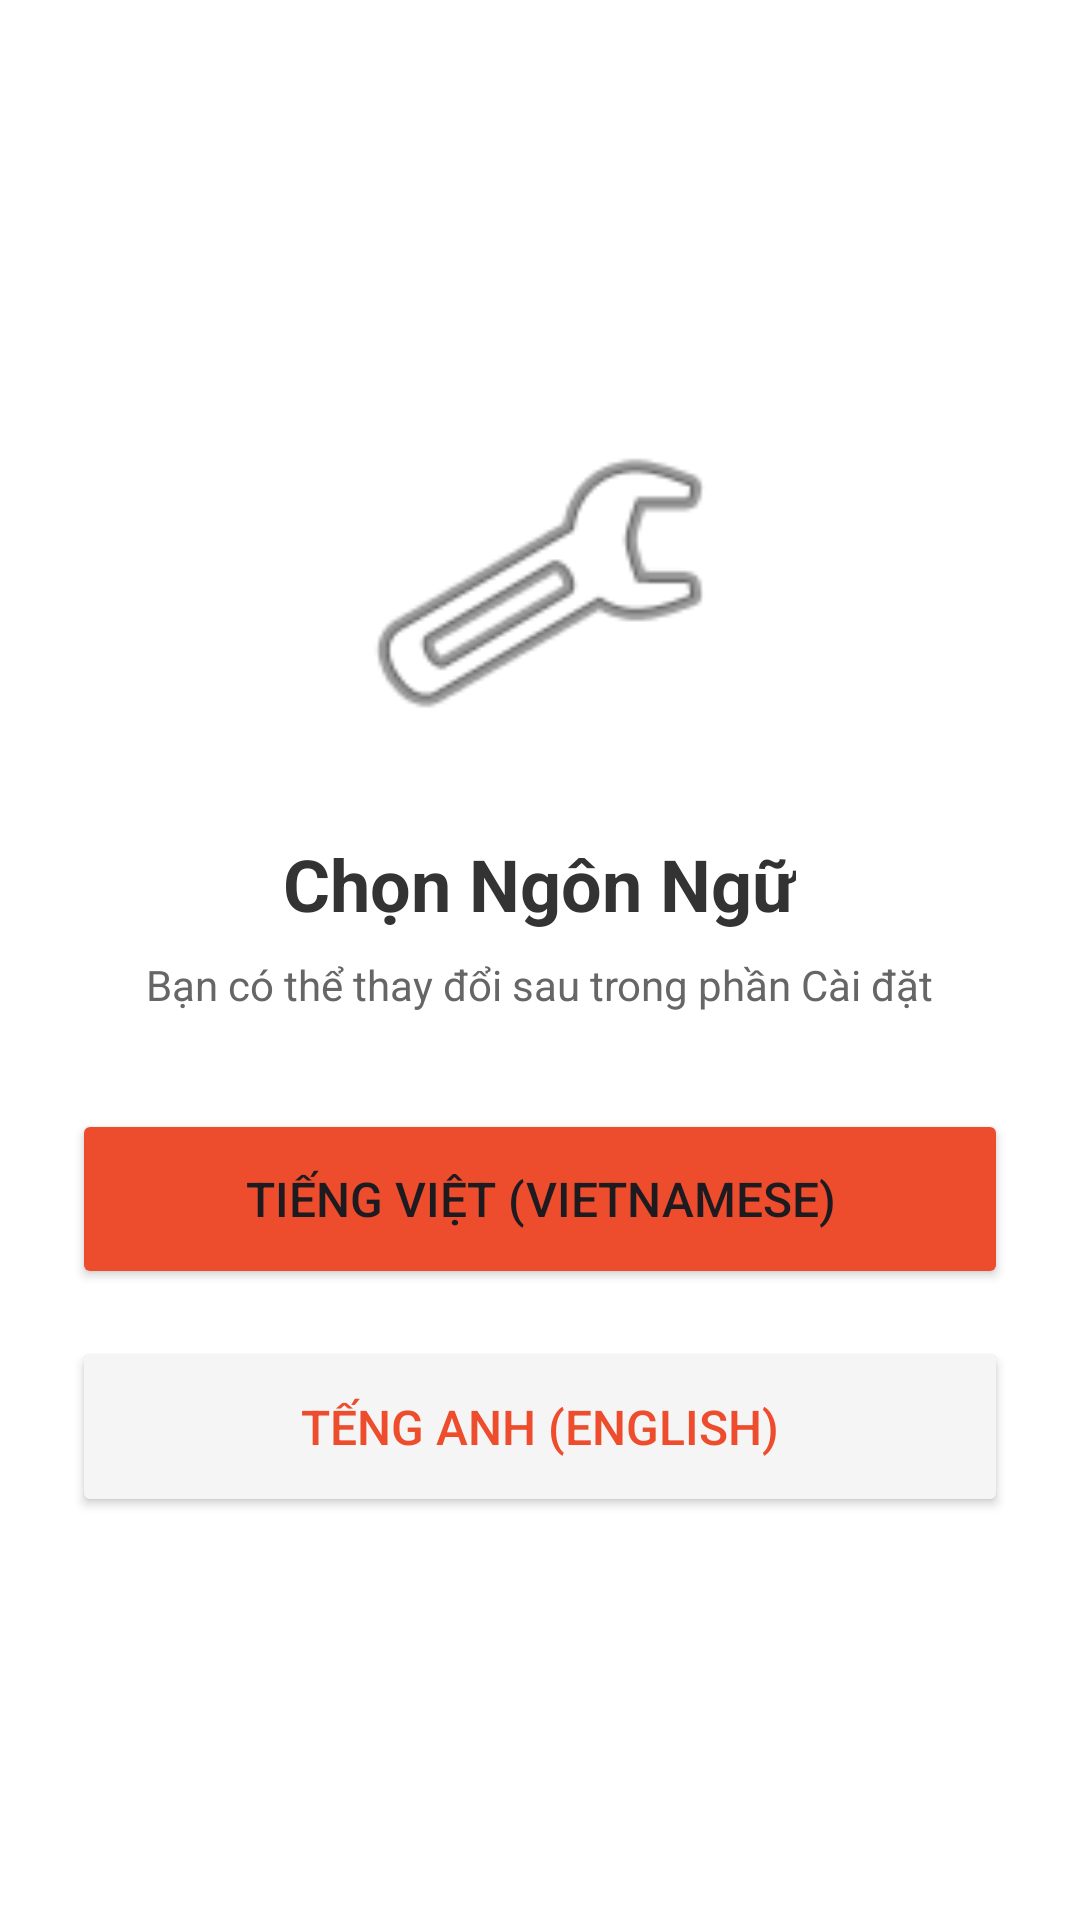

Named icons in this screenshot (1080*1920) and their bounding boxes, (x1, y1, x2, y2):
manage: (377, 459, 703, 707)
